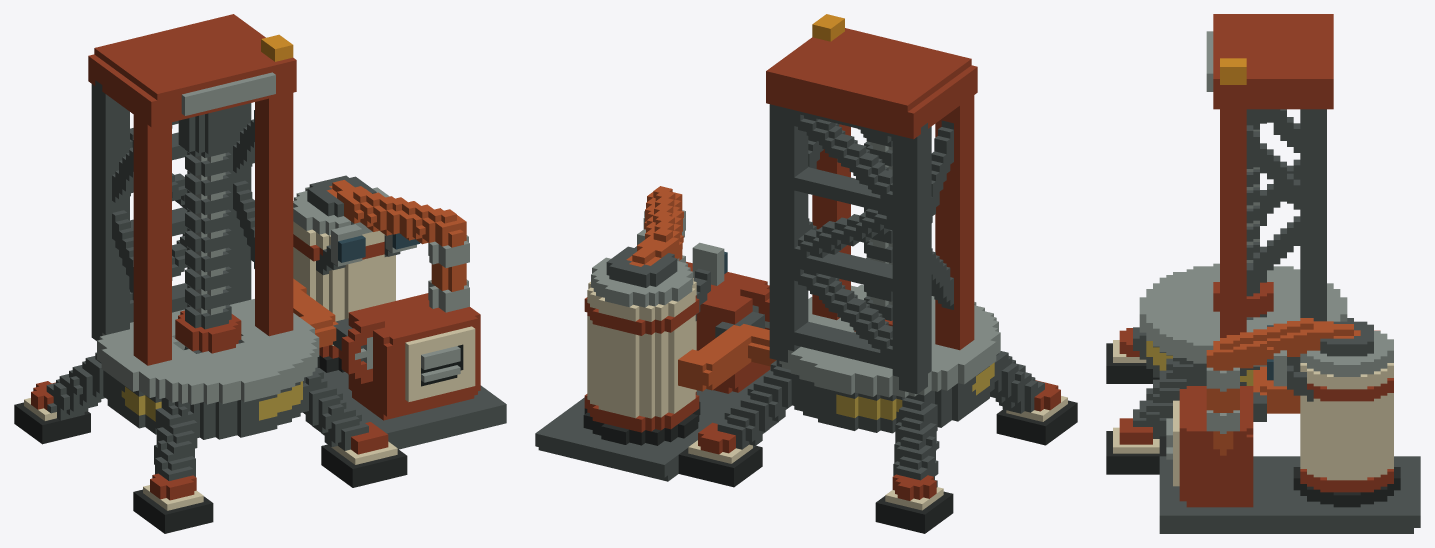
File: geothermal_drill.glb
The picture shows the model from 3 angles, left to right: view 1: azimuth 30°, elevation 25°; view 2: azimuth 150°, elevation 25°; view 3: azimuth 270°, elevation 25°; orthographic projection. The views are drawn at different scales.
Parts seen in each view (by area): view 1: geothermal_drill; view 2: geothermal_drill; view 3: geothermal_drill.
Part boxes in pixels (x1,y1,x2,y2): geothermal_drill: [14, 14, 506, 533]; geothermal_drill: [535, 14, 1077, 533]; geothermal_drill: [1106, 14, 1420, 533].
Size of the model in its own units: 5.49 by 5.67 by 4.23.
